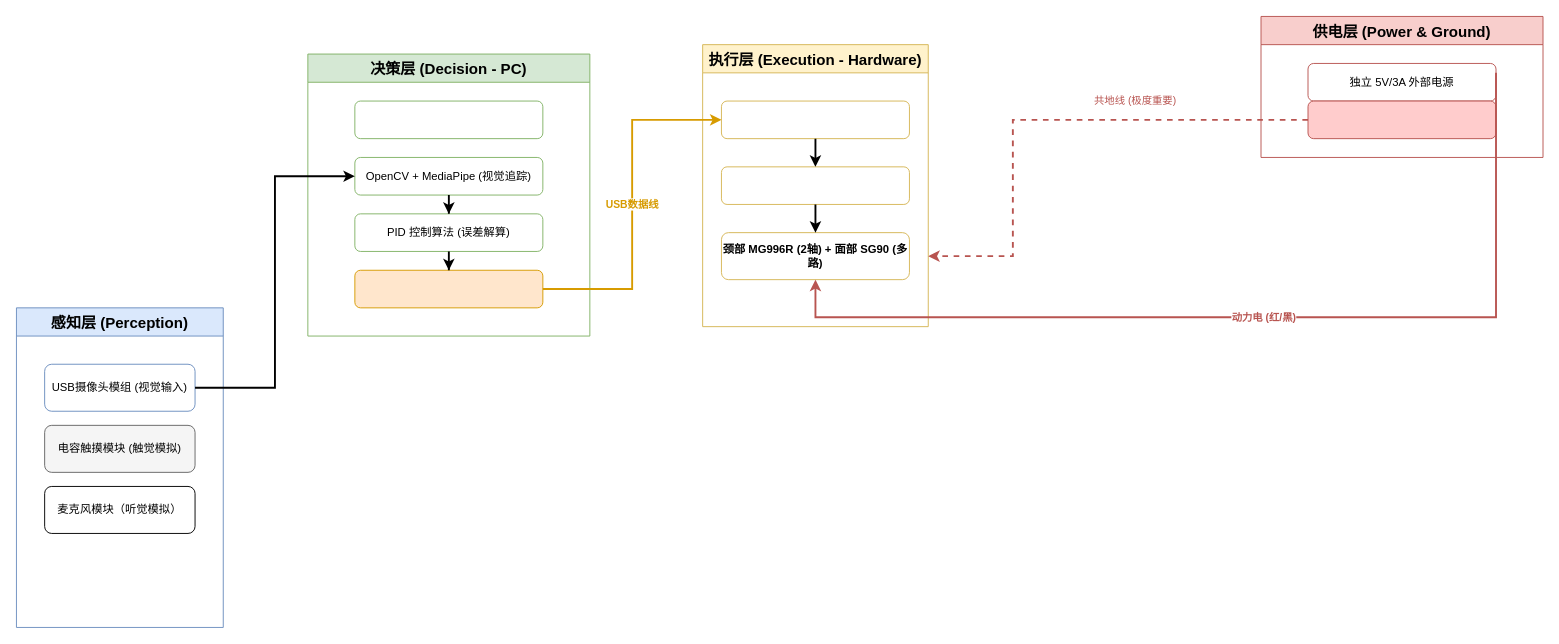
Some shapes in this 1559 by 644 pixel diagram are drawn without their labels. Each missing label, with the centre of its shape:
ESP32-S3 / Arduino (下位机): the point at 815,119
PCA9685 16路舵机驱动板 (I2C): the point at 815,185
Python 主控程序: the point at 448,119
串口通信 (UART - 115200): the point at 448,288
共地 (Common GND) 🔌: the point at 1401,119
